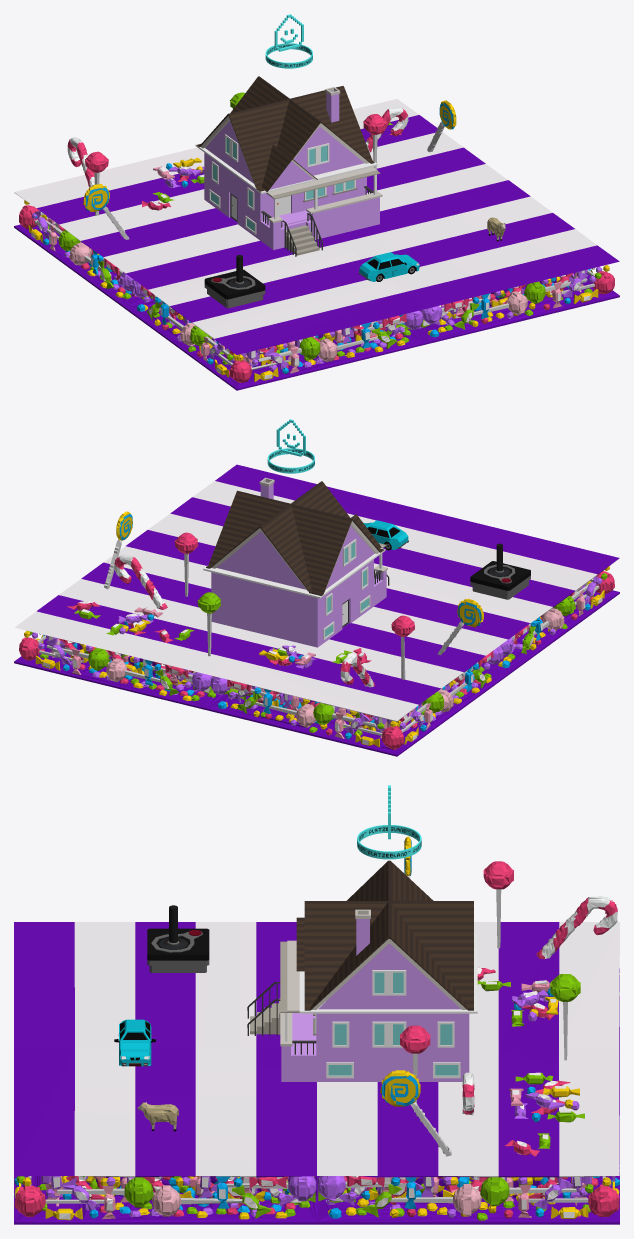
3 renders of one model, top to bottom at view 1: azimuth 30°, elevation 25°; view 2: azimuth 150°, elevation 25°; view 3: azimuth 270°, elevation 25°, orthographic. The views are drawn at different scales.
Parts seen in each view (by area): view 1: TERRAIN_CANDY, Cube.391, OBJRANDOM_JOYSTICK, VEHICLES_CAR, TYPE_PREMIUM; view 2: TERRAIN_CANDY, Cube.391, OBJRANDOM_JOYSTICK, TYPE_PREMIUM, VEHICLES_CAR; view 3: TERRAIN_CANDY, Cube.391, OBJRANDOM_JOYSTICK, VEHICLES_CAR, TYPE_PREMIUM, ANIMAL_OVEJA.
Boxes of the visible parts, <box> form: TERRAIN_CANDY: <box>14,92,619,390</box>; Cube.391: <box>195,76,382,256</box>; OBJRANDOM_JOYSTICK: <box>204,255,265,308</box>; VEHICLES_CAR: <box>358,252,419,281</box>; TYPE_PREMIUM: <box>265,14,312,68</box>; TERRAIN_CANDY: <box>14,464,619,756</box>; Cube.391: <box>203,477,389,647</box>; OBJRANDOM_JOYSTICK: <box>470,543,530,599</box>; TYPE_PREMIUM: <box>267,419,314,473</box>; VEHICLES_CAR: <box>363,520,408,550</box>; TERRAIN_CANDY: <box>14,836,619,1224</box>; Cube.391: <box>247,860,477,1081</box>; OBJRANDOM_JOYSTICK: <box>147,905,209,972</box>; VEHICLES_CAR: <box>114,1019,155,1066</box>; TYPE_PREMIUM: <box>357,785,421,859</box>; ANIMAL_OVEJA: <box>137,1102,178,1131</box>.
Size of the model in its own units: 4059 by 2354 by 4000.
Materials: 37 (3 with a texture image).
